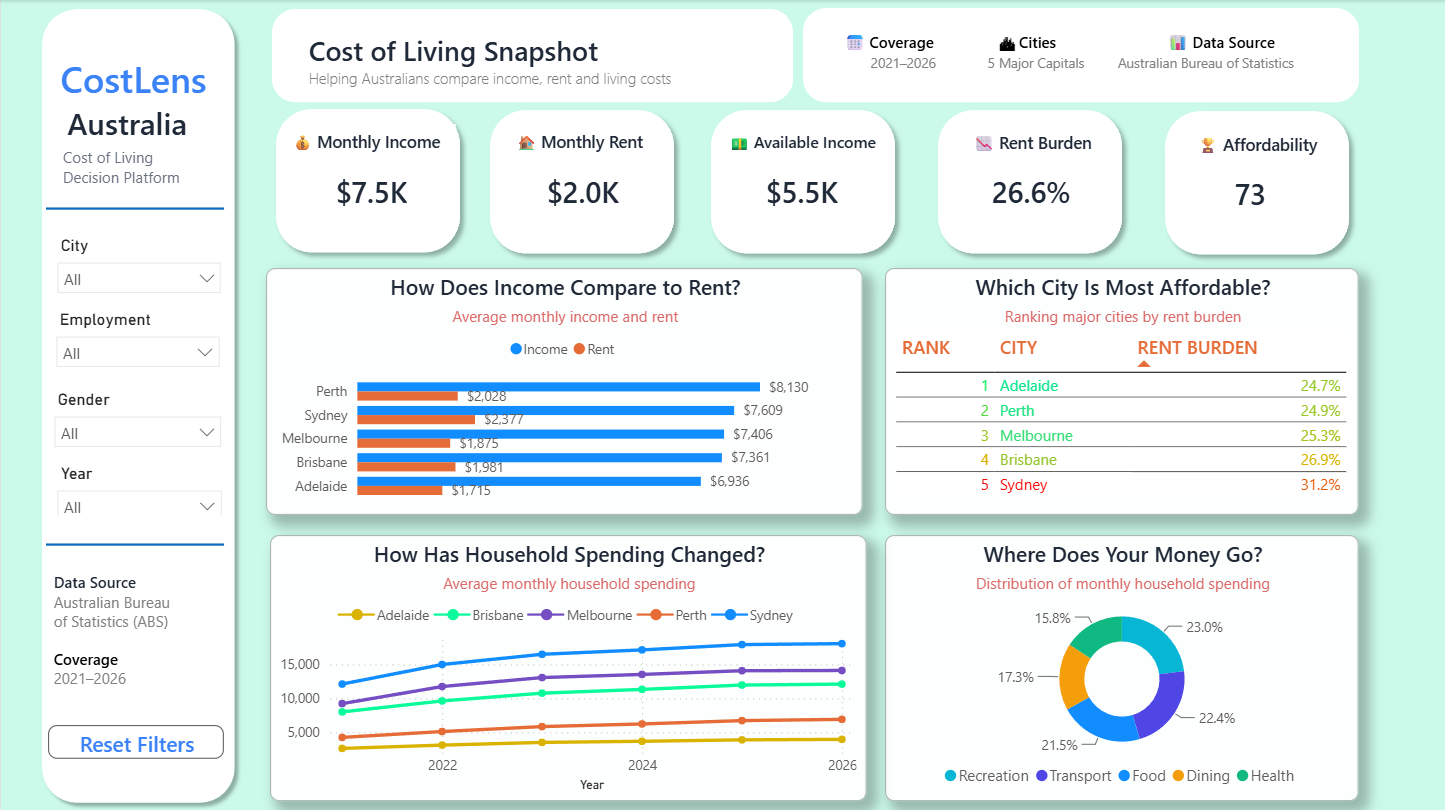

What the dashboard file says about the page in this screenshot:
{"tool":"powerbi","page":{"name":"Executive Overview","canvas":[1280,720],"ordinal":0},"visuals":[{"type":"shape","box":[1023.2,89.5,180.9,144.9],"z":0},{"type":"shape","box":[821.9,88.5,180.9,144.9],"z":1000},{"type":"shape","box":[620.5,88.5,180.9,144.9],"z":2000},{"type":"shape","box":[425,88.5,180.9,144.9],"z":3000},{"type":"shape","box":[235.4,87.5,180.9,144.9],"z":4000},{"type":"shape","box":[28.2,0,186.7,719.8],"z":5000},{"type":"cardVisual","fields":{"Data":["Fact_Earnings.Monthly Earnings"]},"box":[267.5,119.6,123.5,97.3],"z":6000},{"type":"slicer","fields":{"Values":["Dim_City.City"]},"box":[40,204.8,165.3,55.4],"z":7000},{"type":"slicer","fields":{"Values":["Dim_Date.Year"]},"box":[40,406.7,165.8,49.6],"z":8000},{"type":"slicer","fields":{"Values":["Fact_Earnings.Gender Display"]},"box":[37,341,168,55.3],"z":9000},{"type":"slicer","fields":{"Values":["Fact_Earnings.EmploymentType"]},"box":[39,270.7,164.7,59.8],"z":10000},{"type":"textbox","box":[38.9,42.8,158.5,164.4],"z":11000},{"type":"textbox","box":[38.9,125.5,152.7,60.3],"z":12000},{"type":"shape","box":[40,176.9,157.9,17],"z":13000},{"type":"shape","box":[40,474.6,157.9,17],"z":14000},{"type":"textbox","box":[42,502.6,157.9,118.9],"z":15000},{"type":"shape","box":[240.2,7.8,462,82.7],"z":16000},{"type":"textbox","box":[267.5,23.3,357.9,66.1],"z":17000},{"type":"textbox","box":[249,109.9,153.7,31.1],"z":18000},{"type":"cardVisual","fields":{"Data":["Fact_Earnings.Rent to Income %"]},"box":[849.1,135.2,129.4,67.1],"z":19000},{"type":"cardVisual","fields":{"Data":["Fact_RentalMarket.Monthly Rent"]},"box":[455.2,135.2,128.4,66.1],"z":20000},{"type":"textbox","box":[447.4,109.9,136.2,37],"z":21000},{"type":"cardVisual","fields":{"Data":["Fact_Earnings.Savings After Rent"]},"box":[648.8,133.3,123.5,72],"z":22000},{"type":"textbox","box":[637.1,110.9,146.9,35],"z":23000},{"type":"textbox","box":[849.1,110.9,126.4,30.2],"z":24000},{"type":"cardVisual","fields":{"Data":["Dim_City.Affordability Score"]},"box":[1065,135.2,97.3,70],"z":25000},{"type":"textbox","box":[1048.5,112.8,130.3,30.2],"z":26000},{"type":"clusteredBarChart","title":"How Does Income Compare to Rent?","fields":{"Category":["Dim_City.City"],"Y":["Fact_Earnings.Monthly Earnings","Fact_RentalMarket.Monthly Rent"]},"box":[235.4,237.3,529.1,218.8],"z":27000},{"type":"tableEx","title":"Which City Is Most Affordable?","fields":{"Values":["Dim_City.City Rank","Dim_City.City","Fact_Earnings.Rent to Income %"]},"box":[784,237.3,420.2,218.8],"z":28000},{"type":"donutChart","title":"Where Does Your Money Go?","fields":{"Y":["Sum(Fact_HouseholdSpending.SpendingMillions)"],"Category":["Fact_HouseholdSpending.Display Category"]},"box":[784,474.7,420.2,236.4],"z":29000},{"type":"lineChart","title":"How Has Household Spending Changed?","fields":{"Category":["Dim_Date.Year"],"Y":["Fact_HouseholdSpending.Average Monthly Spending by Year"],"Series":["Dim_City.City"]},"box":[238.3,474.7,529.1,236.4],"z":30000},{"type":"shape","box":[711,6.8,493.1,83.6],"z":31000},{"type":"textbox","box":[743.1,24.3,426,66.1],"z":32000},{"type":"actionButton","title":"Reset Filters","box":[42,642.5,155.9,30],"z":33000}]}

Visuals, with their boxes in screenshot pixels (x1, y1, x2, y2), scaled from the page's 1280x720 canvas onto the 1445x810 screenshot:
shape: BBox(1155, 101, 1359, 264)
shape: BBox(928, 100, 1132, 263)
shape: BBox(700, 100, 905, 263)
shape: BBox(480, 100, 684, 263)
shape: BBox(266, 98, 470, 261)
shape: BBox(32, 0, 243, 809)
cardVisual - Fact_Earnings.Monthly Earnings: BBox(302, 135, 441, 244)
slicer - Dim_City.City: BBox(45, 230, 232, 293)
slicer - Dim_Date.Year: BBox(45, 458, 232, 513)
slicer - Fact_Earnings.Gender Display: BBox(42, 384, 231, 446)
slicer - Fact_Earnings.EmploymentType: BBox(44, 305, 230, 372)
textbox: BBox(44, 48, 223, 233)
textbox: BBox(44, 141, 216, 209)
shape: BBox(45, 199, 223, 218)
shape: BBox(45, 534, 223, 553)
textbox: BBox(47, 565, 226, 699)
shape: BBox(271, 9, 793, 102)
textbox: BBox(302, 26, 706, 101)
textbox: BBox(281, 124, 455, 159)
cardVisual - Fact_Earnings.Rent to Income %: BBox(959, 152, 1105, 228)
cardVisual - Fact_RentalMarket.Monthly Rent: BBox(514, 152, 659, 226)
textbox: BBox(505, 124, 659, 165)
cardVisual - Fact_Earnings.Savings After Rent: BBox(732, 150, 872, 231)
textbox: BBox(719, 125, 885, 164)
textbox: BBox(959, 125, 1101, 159)
cardVisual - Dim_City.Affordability Score: BBox(1202, 152, 1312, 231)
textbox: BBox(1184, 127, 1331, 161)
"How Does Income Compare to Rent?" clusteredBarChart: BBox(266, 267, 863, 513)
"Which City Is Most Affordable?" tableEx: BBox(885, 267, 1359, 513)
"Where Does Your Money Go?" donutChart: BBox(885, 534, 1359, 800)
"How Has Household Spending Changed?" lineChart: BBox(269, 534, 866, 800)
shape: BBox(803, 8, 1359, 102)
textbox: BBox(839, 27, 1320, 102)
"Reset Filters" actionButton: BBox(47, 723, 223, 757)
